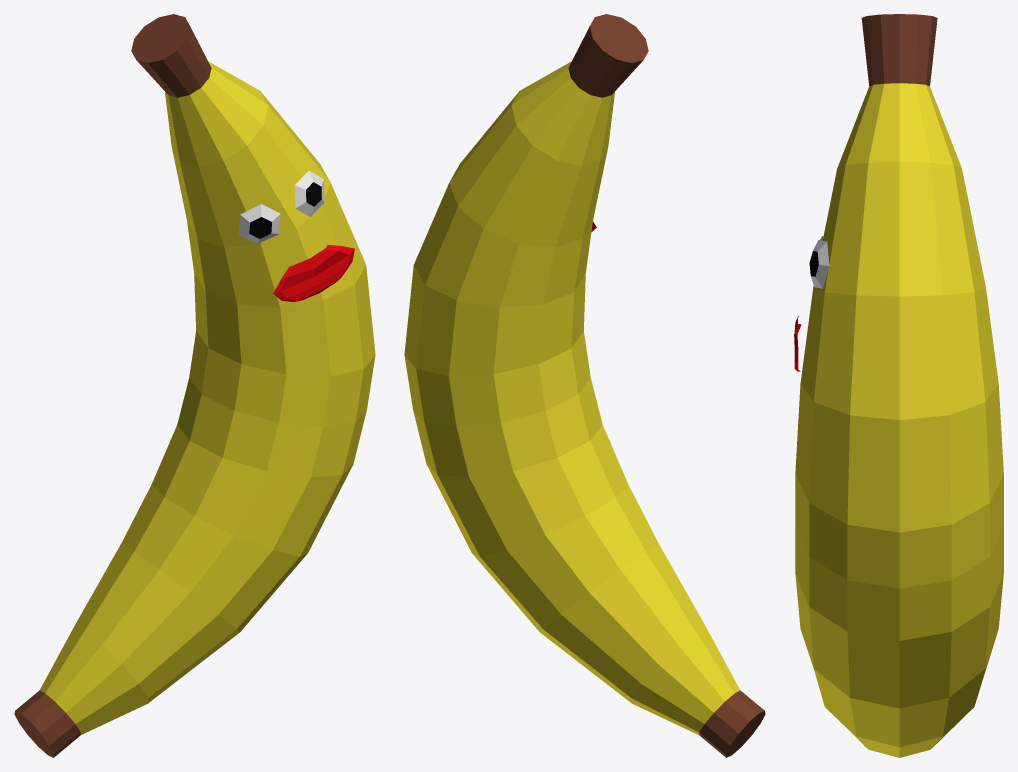
Rendered from Banana.fbx.
3 views of the same model, side by side, from view 1: azimuth 30°, elevation 25°; view 2: azimuth 150°, elevation 25°; view 3: azimuth 270°, elevation 25° (orthographic). The views are drawn at different scales.
Visible parts, largest first — view 1: Banana; view 2: Banana; view 3: Banana.
Part boxes in pixels (left/top/right/bottom): Banana: left=14, top=14, right=375, bottom=757; Banana: left=404, top=14, right=765, bottom=757; Banana: left=794, top=14, right=1003, bottom=757.
Bounding box in the file's own units: 49.39 × 97.15 × 22.79.
